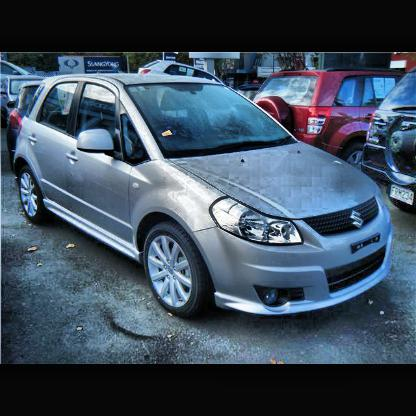Suzuki SX4 Hatchback 2012: (16, 71, 398, 330)
